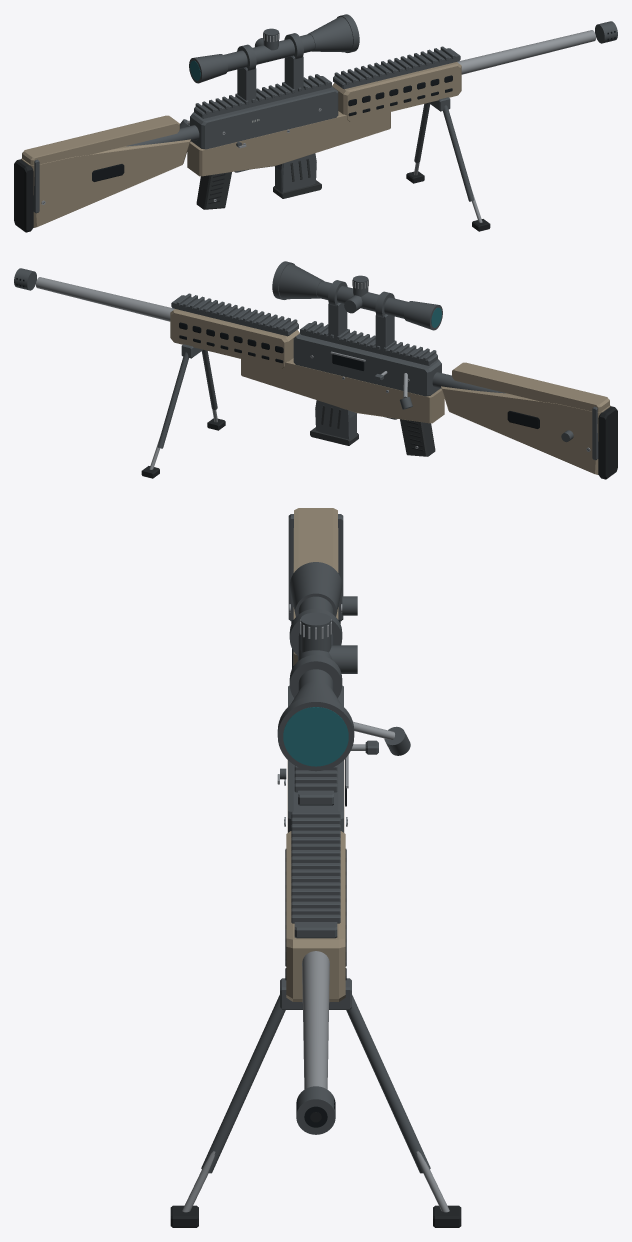
The model's file is 01_precision_rifle.glb.
3 views of the same model, one above another, from view 1: azimuth 30°, elevation 25°; view 2: azimuth 150°, elevation 25°; view 3: azimuth 270°, elevation 25° (orthographic). The views are drawn at different scales.
Visible parts, largest first — view 1: stock_shell_01, chassis_01, receiver_01, handguard_01, cheek_rest_01, heavy_barrel_01, recoil_pad_01, scope_tube_01, objective_bell_01, top_rail_spine_01, magazine_01, top_rail_spine_02 (+11 smaller); view 2: stock_shell_01, chassis_01, receiver_01, handguard_01, cheek_rest_01, heavy_barrel_01, recoil_pad_01, objective_bell_01, top_rail_spine_01, magazine_01, scope_tube_01, top_rail_spine_02 (+12 smaller); view 3: handguard_01, heavy_barrel_01, objective_glass_01, cheek_rest_01, bipod_leg_01, bipod_leg_02, ocular_housing_01, objective_rim_01, receiver_01, muzzle_collar_01, scope_tube_01, scope_clamp_02 (+2 smaller).
Part boxes in pixels (x1,y1,x2,y2): stock_shell_01: (21, 139, 190, 227); chassis_01: (187, 111, 390, 176); receiver_01: (190, 86, 338, 149); handguard_01: (332, 62, 461, 121); cheek_rest_01: (22, 115, 179, 165); heavy_barrel_01: (457, 30, 595, 74); recoil_pad_01: (14, 159, 33, 232); scope_tube_01: (223, 34, 314, 71); objective_bell_01: (308, 16, 352, 52); top_rail_spine_01: (333, 48, 460, 89); magazine_01: (275, 153, 316, 192); top_rail_spine_02: (194, 76, 331, 118); stock_shell_01: (441, 386, 610, 474); chassis_01: (241, 358, 444, 423); receiver_01: (293, 333, 441, 396); handguard_01: (170, 309, 299, 368); cheek_rest_01: (452, 362, 609, 412); heavy_barrel_01: (36, 277, 174, 321); recoil_pad_01: (598, 406, 617, 479); objective_bell_01: (279, 263, 323, 299); top_rail_spine_01: (171, 295, 298, 336); magazine_01: (315, 400, 356, 439); scope_tube_01: (317, 281, 408, 318); top_rail_spine_02: (300, 323, 437, 365); handguard_01: (286, 831, 345, 1001); heavy_barrel_01: (302, 951, 329, 1089); objective_glass_01: (283, 707, 348, 766); cheek_rest_01: (294, 508, 337, 664); bipod_leg_01: (346, 995, 430, 1173); bipod_leg_02: (201, 995, 285, 1173); ocular_housing_01: (289, 562, 342, 616); objective_rim_01: (277, 696, 354, 771); receiver_01: (288, 685, 343, 832); muzzle_collar_01: (296, 1086, 335, 1134); scope_tube_01: (298, 596, 333, 690); scope_clamp_02: (289, 655, 342, 698).
Bounding box in the file's own units: 1.25 × 0.435 × 0.266.
